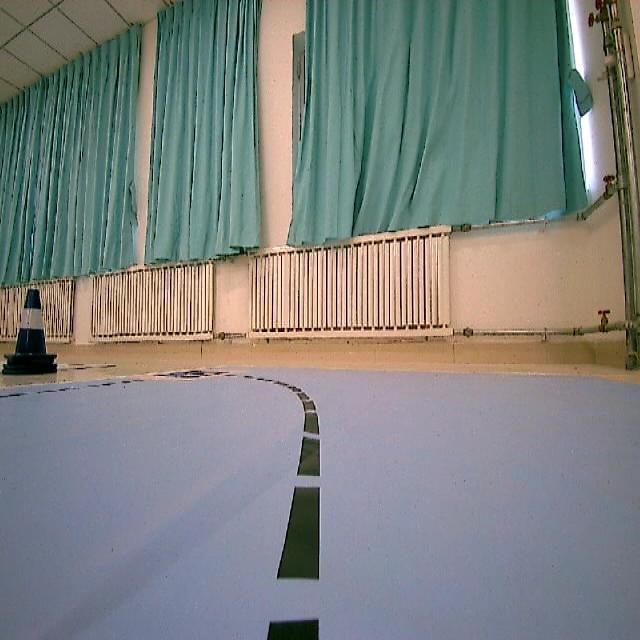obstacle: (0, 290, 59, 383)
